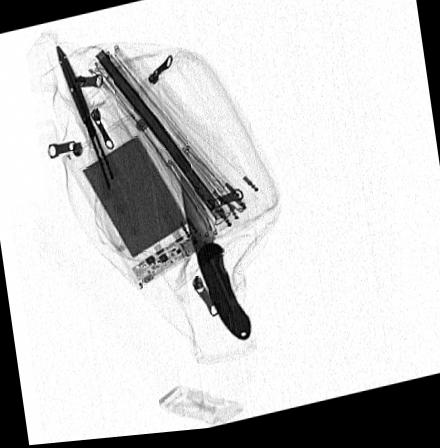Powerbank: (61, 112, 207, 292)
Scissors: (53, 44, 168, 257), (179, 173, 252, 345)
